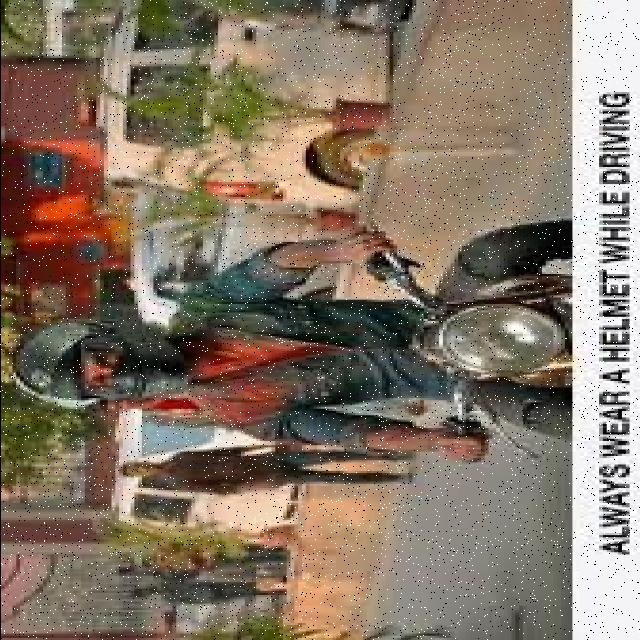Helmet: (16, 323, 186, 409)
Non_Helmet: (114, 458, 164, 478), (96, 394, 139, 414)
